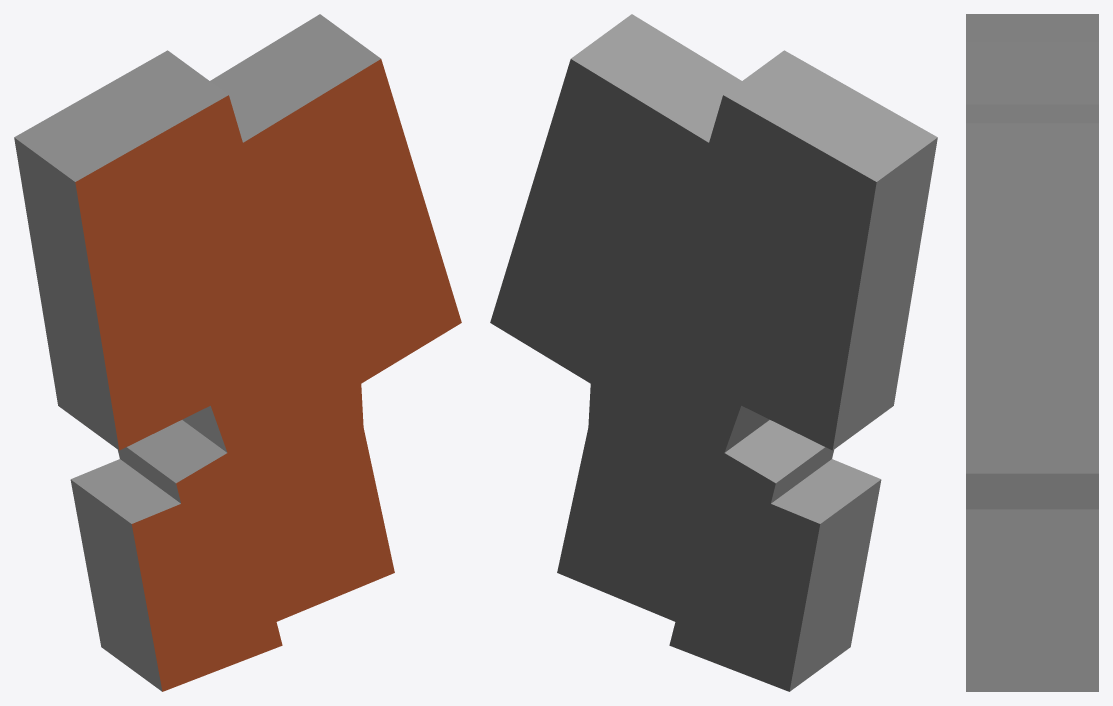
Rendered from construction_4612_assumed_A_Casa_h6m.obj.
3 renders of one model, left to right at view 1: azimuth 30°, elevation 25°; view 2: azimuth 150°, elevation 25°; view 3: azimuth 270°, elevation 25°, orthographic. The views are drawn at different scales.
Parts seen in each view (by area): view 1: construction_4612_assumed_A_Casa; view 2: construction_4612_assumed_A_Casa; view 3: construction_4612_assumed_A_Casa.
Part boxes in pixels (left/top/right/bottom): construction_4612_assumed_A_Casa: left=14, top=14, right=461, bottom=691; construction_4612_assumed_A_Casa: left=490, top=14, right=937, bottom=691; construction_4612_assumed_A_Casa: left=966, top=14, right=1098, bottom=691.
Size of the model in its own units: 21.88 by 31.4 by 6.
